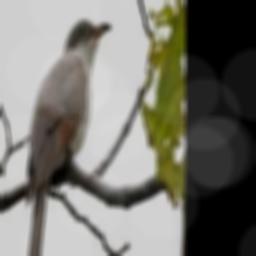Cuckoo: (24, 19, 112, 256)
